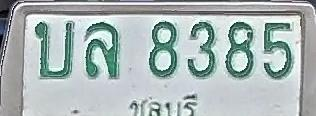3: (186, 21, 216, 79)
5: (262, 22, 294, 80)
8: (225, 20, 254, 80), (148, 20, 178, 78)
A26: (34, 20, 75, 80)
A36: (84, 22, 120, 79)
CBI: (128, 89, 200, 116)
